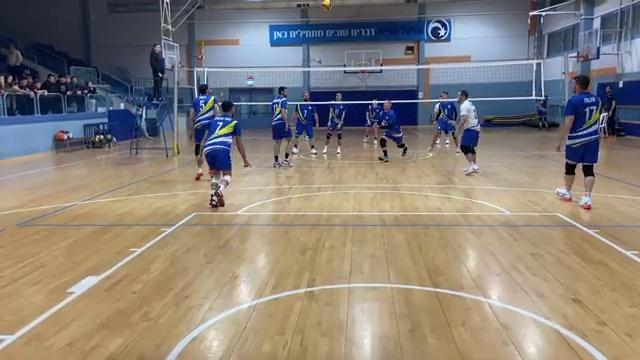ball: (318, 0, 340, 12)
